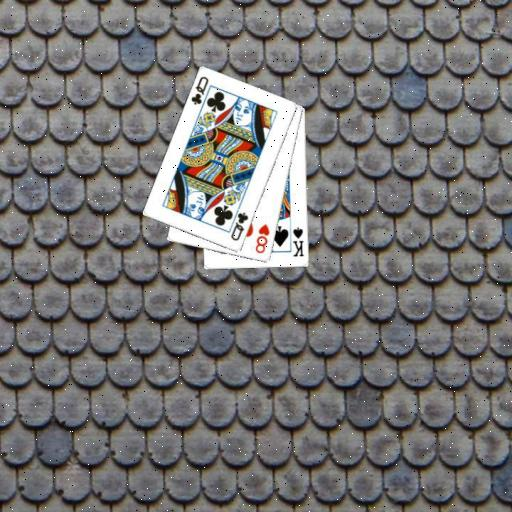8H: (253, 221, 271, 255)
KS: (290, 224, 305, 259)
QC: (188, 73, 211, 107), (228, 209, 250, 243)
